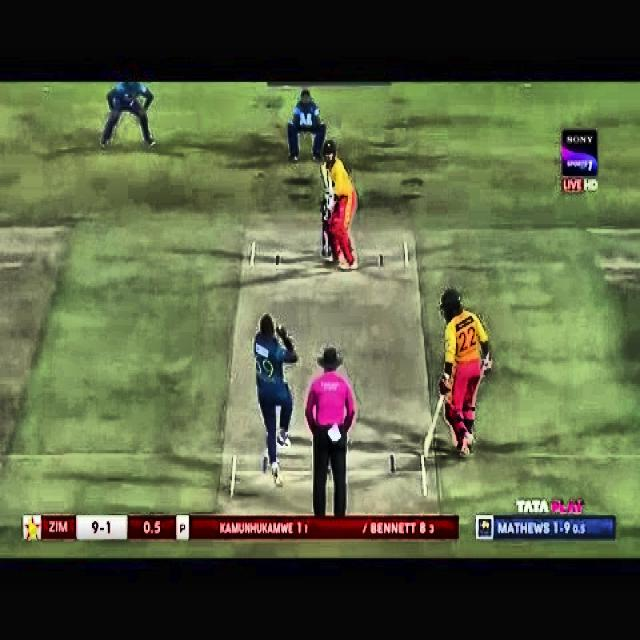Left-stump: (322, 226, 326, 256)
Middle-stump: (329, 242, 332, 254)
